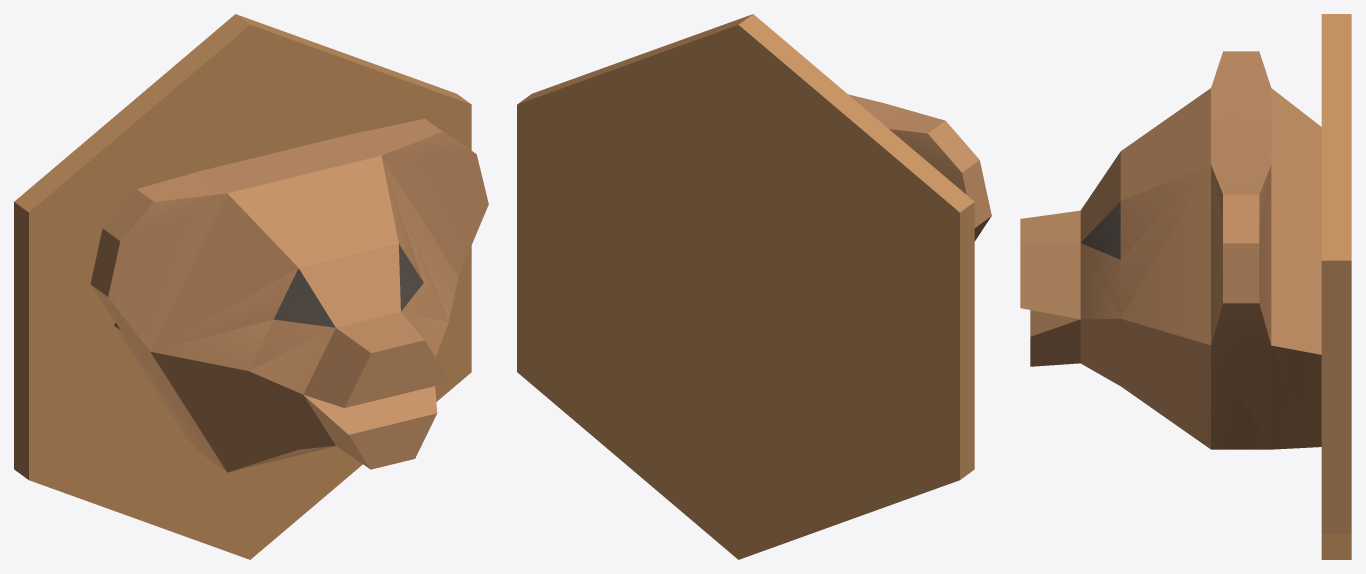
The model's file is kitBear.glb.
The picture shows the model from 3 angles, left to right: view 1: azimuth 30°, elevation 25°; view 2: azimuth 150°, elevation 25°; view 3: azimuth 270°, elevation 25°; orthographic projection. The views are drawn at different scales.
Parts seen in each view (by area): view 1: kitBear_fur, kitBear_wood, kitBear_metalDark; view 2: kitBear_wood, kitBear_fur; view 3: kitBear_fur, kitBear_wood, kitBear_metalDark.
Part boxes in pixels (bbox=[...]): kitBear_fur: bbox=[90, 119, 488, 472]; kitBear_wood: bbox=[14, 14, 471, 559]; kitBear_metalDark: bbox=[273, 244, 423, 327]; kitBear_wood: bbox=[517, 14, 974, 559]; kitBear_fur: bbox=[848, 94, 991, 241]; kitBear_fur: bbox=[1020, 51, 1351, 533]; kitBear_wood: bbox=[1321, 14, 1351, 559]; kitBear_metalDark: bbox=[1081, 201, 1120, 259].
Bounding box in the file's own units: 0.3464 × 0.4 × 0.22.
